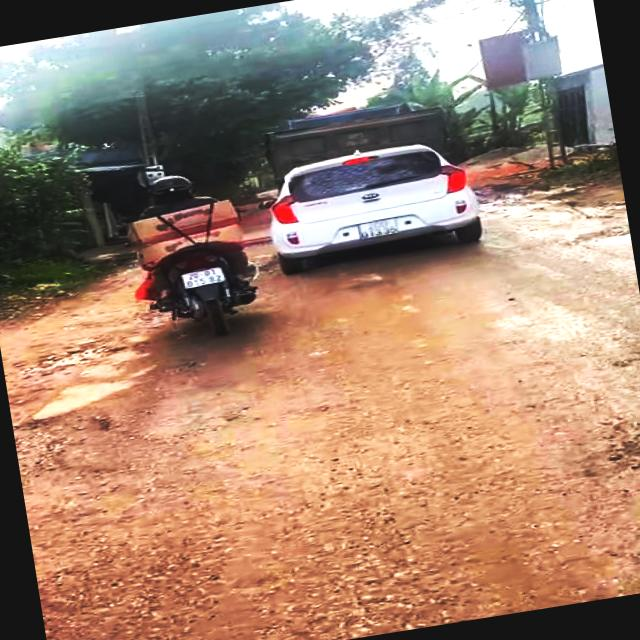pothole: (11, 401, 120, 474), (38, 335, 124, 373), (566, 222, 632, 260)
